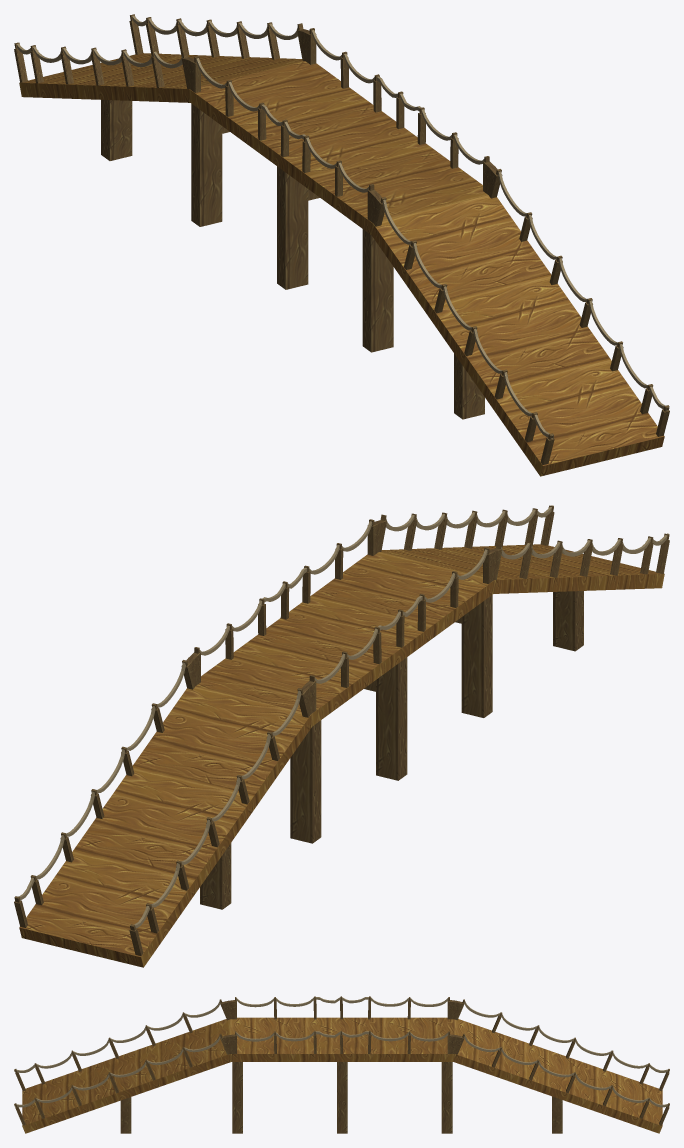
File: tahta_köprü.fbx
3 renders of one model, top to bottom at view 1: azimuth 30°, elevation 25°; view 2: azimuth 150°, elevation 25°; view 3: azimuth 270°, elevation 25°, orthographic. The views are drawn at different scales.
Parts seen in each view (by area): view 1: ponte.001, ponte.003; view 2: ponte.001, ponte.003; view 3: ponte.001, ponte.003.
Part boxes in pixels (x1,y1,x2,y2): ponte.001: (19, 53, 664, 476); ponte.003: (14, 14, 669, 464); ponte.001: (19, 544, 664, 967); ponte.003: (14, 505, 669, 955); ponte.001: (22, 1017, 662, 1133); ponte.003: (14, 996, 669, 1125).
Size of the model in its own units: 3640 by 4746 by 27755.
Materials: 1 (1 with a texture image).
